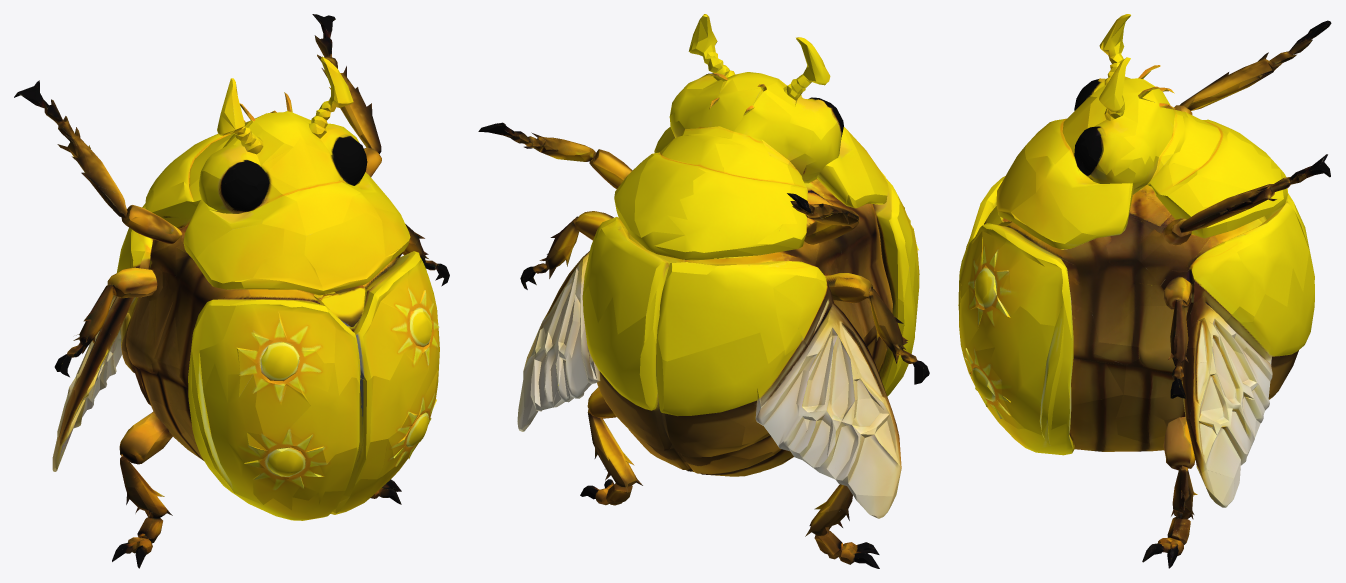
File: scarab.glb
3 renders of one model, left to right at view 1: azimuth 30°, elevation 25°; view 2: azimuth 150°, elevation 25°; view 3: azimuth 270°, elevation 25°, orthographic. The views are drawn at different scales.
Bounding box in the file's own units: 1.63 × 1.9 × 1.38.
Materials: 1 (1 with a texture image).
